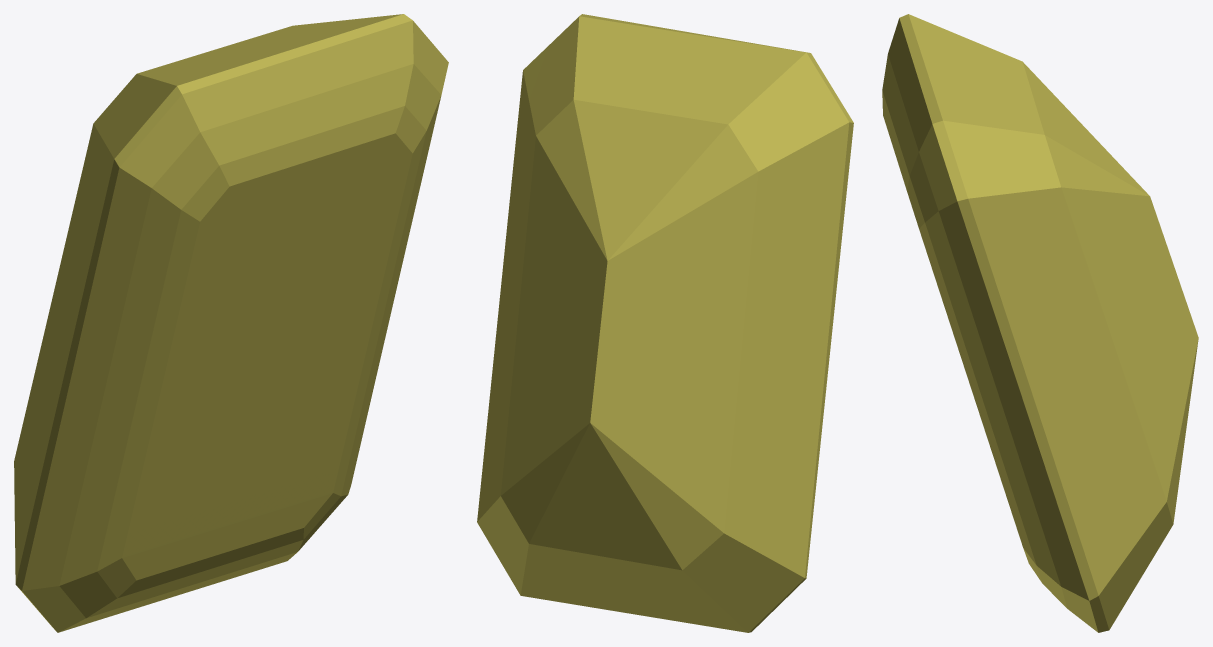
The model's file is BR1_8shapes_Emerald_Classic_Stone.001 3.glb.
The picture shows the model from 3 angles, left to right: view 1: azimuth 30°, elevation 25°; view 2: azimuth 150°, elevation 25°; view 3: azimuth 270°, elevation 25°; orthographic projection. The views are drawn at different scales.
Visible parts, largest first — view 1: BR1_8shapes_Emerald_Classic_Stone.001; view 2: BR1_8shapes_Emerald_Classic_Stone.001; view 3: BR1_8shapes_Emerald_Classic_Stone.001.
Boxes of the visible parts, x1,y1,x2,y2 form: BR1_8shapes_Emerald_Classic_Stone.001: (14, 14, 448, 632); BR1_8shapes_Emerald_Classic_Stone.001: (477, 14, 853, 632); BR1_8shapes_Emerald_Classic_Stone.001: (882, 14, 1198, 632).
Size of the model in its own units: 0.3436 by 0.5267 by 0.2872.
